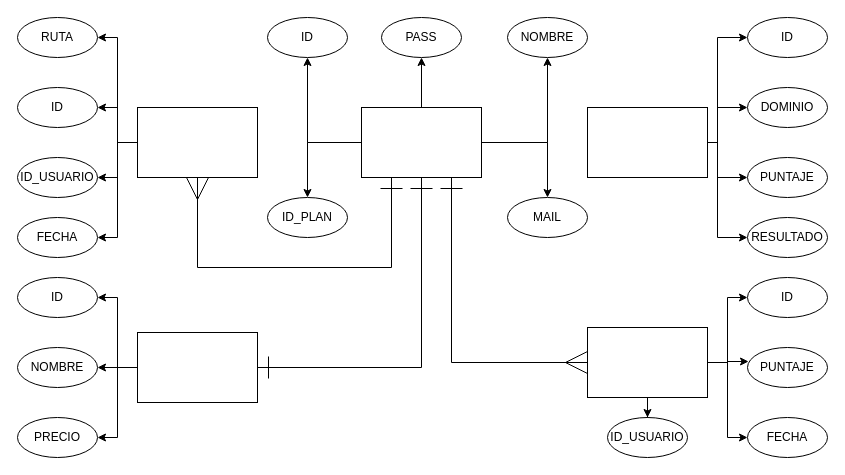
This 845x475 diagram has some shape labels left out. Each missing label, with the centre of its shape:
ANALISIS: (647,362)
INFORMES: (197,142)
PLANES: (197,367)
URLs: (647,142)
USUARIOS: (421,142)
